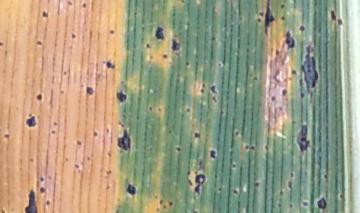tarspot: (299, 42, 319, 101), (262, 1, 275, 38), (295, 123, 310, 154), (115, 127, 132, 152), (23, 189, 39, 213), (193, 172, 206, 199), (114, 87, 130, 105), (283, 30, 297, 50), (25, 112, 38, 130), (125, 182, 138, 197), (153, 25, 165, 41), (316, 196, 328, 212), (170, 38, 182, 54), (103, 59, 117, 70), (328, 8, 337, 22), (208, 148, 218, 160), (40, 9, 49, 21), (209, 83, 218, 95), (34, 38, 44, 48), (301, 198, 309, 210), (86, 85, 94, 96), (287, 179, 293, 193), (297, 24, 306, 33), (210, 95, 219, 104), (144, 41, 152, 51), (186, 177, 194, 187), (274, 46, 281, 57), (174, 72, 181, 83), (35, 93, 43, 102), (38, 185, 46, 194), (69, 32, 77, 41), (192, 131, 201, 139), (197, 158, 203, 170), (219, 105, 225, 117), (336, 17, 343, 27), (281, 88, 288, 98), (3, 130, 9, 141), (108, 27, 114, 38), (256, 10, 264, 18), (337, 192, 345, 200), (161, 53, 169, 61), (230, 161, 238, 169), (75, 139, 83, 147), (252, 74, 260, 82), (44, 198, 51, 207), (279, 14, 286, 23), (252, 180, 261, 187), (104, 168, 113, 175), (216, 60, 223, 69), (323, 172, 329, 182), (81, 1, 87, 11), (276, 201, 283, 209), (231, 188, 238, 196), (104, 184, 112, 191), (91, 130, 99, 137), (147, 105, 154, 113), (183, 59, 190, 67), (277, 105, 285, 112), (57, 89, 66, 95), (288, 171, 295, 178), (27, 155, 34, 162), (119, 79, 126, 86), (175, 145, 181, 153), (290, 68, 296, 76), (270, 95, 276, 103), (277, 190, 285, 196), (199, 87, 205, 95), (73, 163, 81, 169), (156, 105, 162, 113), (113, 207, 121, 213), (39, 174, 44, 183), (255, 17, 262, 23), (200, 81, 206, 88), (184, 106, 191, 112), (106, 151, 112, 158), (62, 70, 69, 76), (78, 82, 84, 89), (47, 174, 53, 181), (1, 39, 5, 49), (186, 169, 191, 177), (189, 209, 199, 213), (234, 128, 239, 136), (66, 1, 72, 7), (148, 54, 154, 60), (154, 194, 160, 200), (249, 144, 255, 150), (216, 186, 222, 192), (63, 156, 69, 162), (210, 35, 216, 41), (279, 4, 286, 9), (288, 201, 293, 208), (244, 144, 249, 151), (167, 128, 172, 135), (115, 195, 120, 202), (178, 1, 186, 5), (154, 207, 160, 212), (50, 130, 56, 135), (85, 155, 90, 161), (105, 126, 109, 133), (1, 208, 6, 213), (193, 170, 198, 175), (168, 201, 173, 206), (158, 199, 163, 204), (162, 205, 168, 209), (213, 173, 217, 179), (52, 121, 58, 125)
